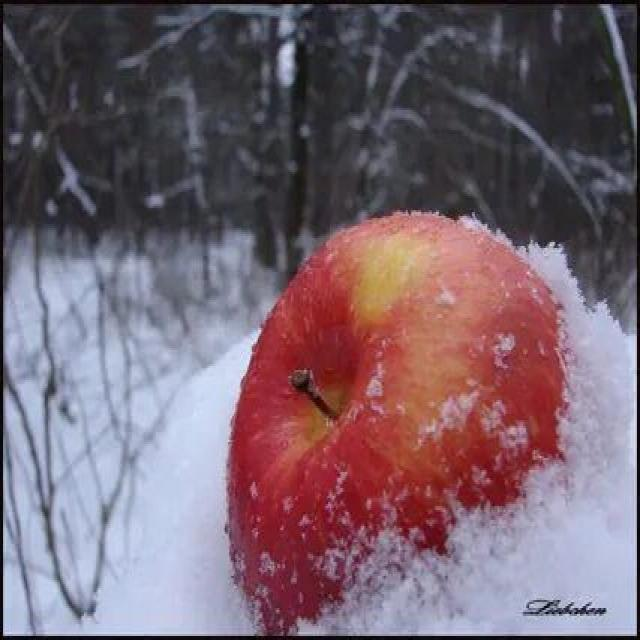Fresh Apple: (238, 218, 535, 600)
